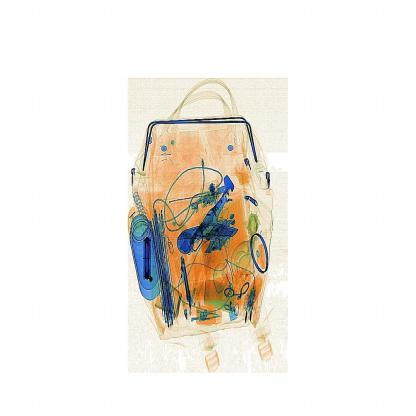scissors: (135, 219, 155, 275)
